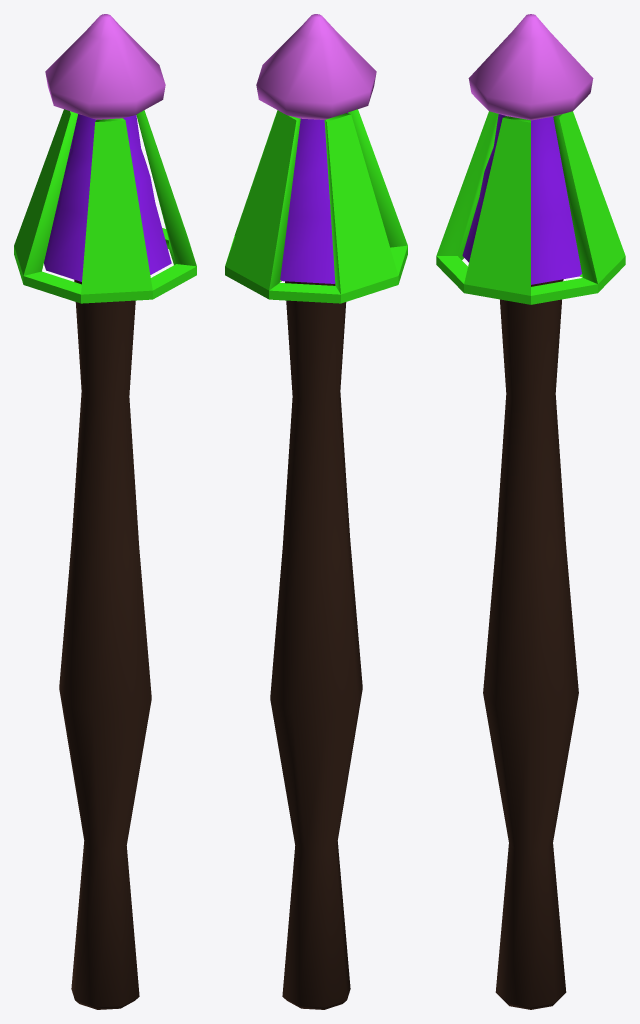
Rendered from ch1_wepoan.fbx.
The picture shows the model from 3 angles, left to right: view 1: azimuth 30°, elevation 25°; view 2: azimuth 150°, elevation 25°; view 3: azimuth 270°, elevation 25°; orthographic projection.
Parts seen in each view (by area): view 1: Cylinder.011; view 2: Cylinder.011; view 3: Cylinder.011.
Part boxes in pixels (bbox=[...]): Cylinder.011: bbox=[14, 14, 196, 1009]; Cylinder.011: bbox=[225, 14, 407, 1009]; Cylinder.011: bbox=[436, 14, 625, 1009].
Size of the model in its own units: 13.3 by 76.02 by 13.3.
